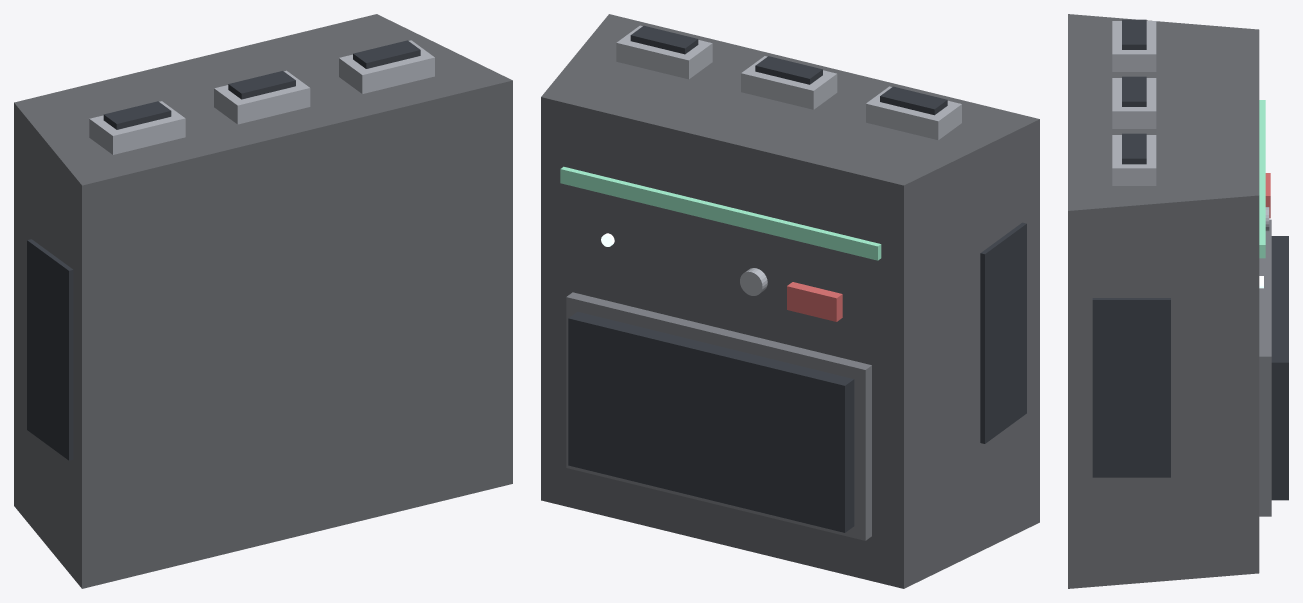
The picture shows the model from 3 angles, left to right: view 1: azimuth 30°, elevation 25°; view 2: azimuth 150°, elevation 25°; view 3: azimuth 270°, elevation 25°; orthographic projection. The views are drawn at different scales.
Parts seen in each view (by area): view 1: N64; view 2: N64; view 3: N64.
Boxes of the visible parts, box(x1,y1,x2,y2) form: N64: box(14, 14, 512, 588); N64: box(541, 14, 1039, 588); N64: box(1068, 14, 1288, 588).
Size of the model in its own units: 1.9 by 1.8 by 0.9.
